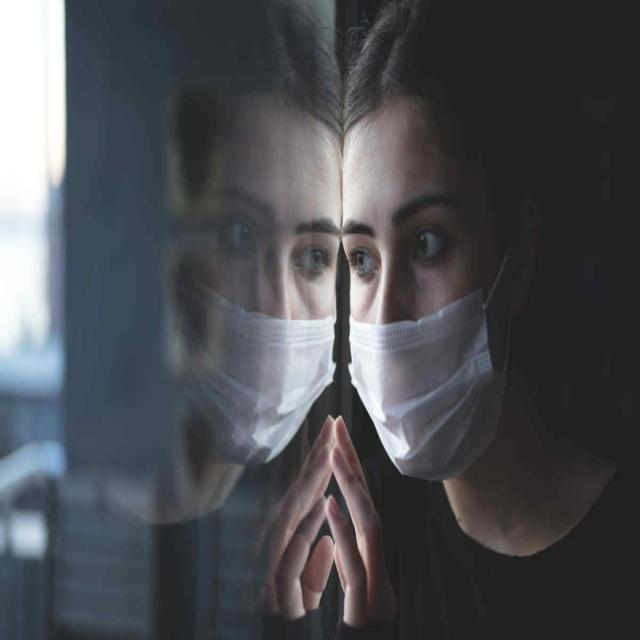No_Goggles: (338, 182, 474, 289)
No_Helmet: (341, 0, 529, 163)
